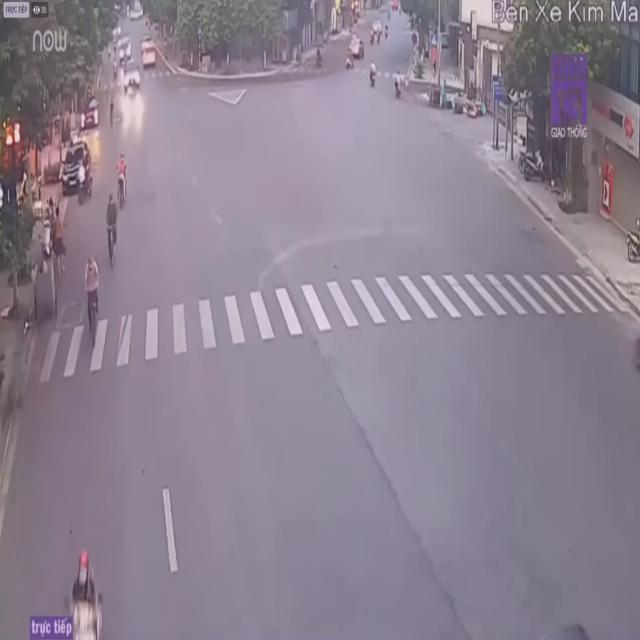motorbike: (45, 551, 111, 639)
